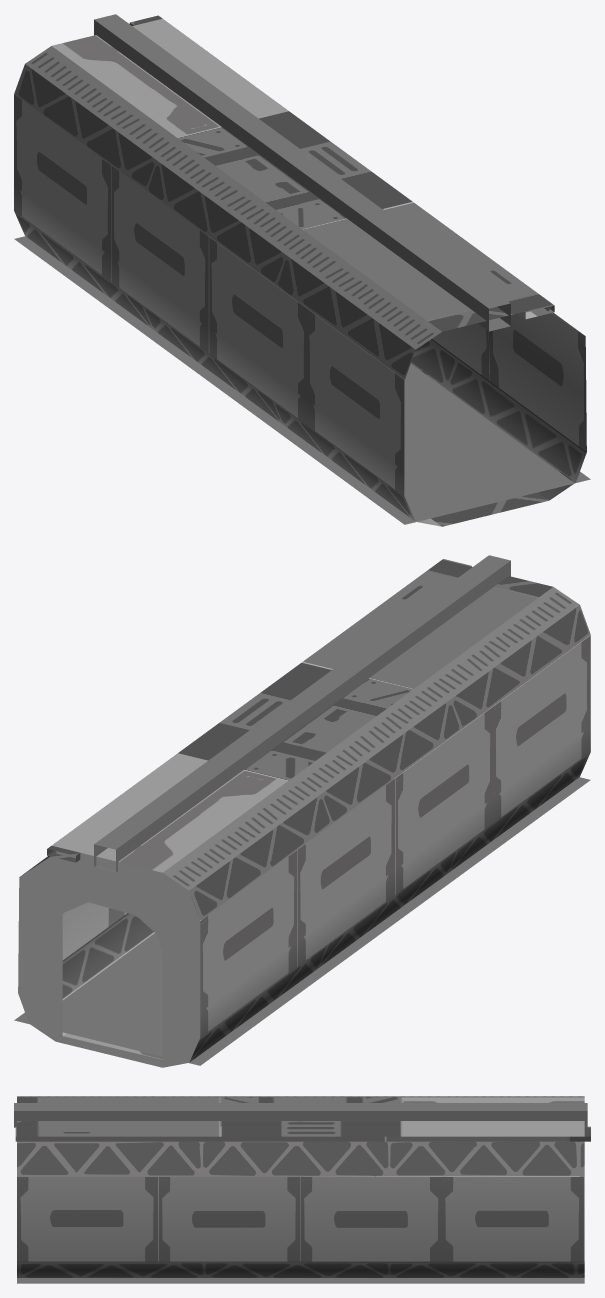
The picture shows the model from 3 angles, top to bottom: view 1: azimuth 30°, elevation 25°; view 2: azimuth 150°, elevation 25°; view 3: azimuth 270°, elevation 25°; orthographic projection. The views are drawn at different scales.
Parts seen in each view (by area): view 1: Room, Floor; view 2: Room, Floor; view 3: Room, Floor.
Boxes of the visible parts, <box> form: Room: <box>14,14,586,526</box>; Floor: <box>14,236,590,524</box>; Room: <box>18,555,590,1067</box>; Floor: <box>14,777,590,1065</box>; Room: <box>14,1096,590,1277</box>; Floor: <box>17,1278,584,1283</box>.
Size of the model in its own units: 247 by 265 by 912.
